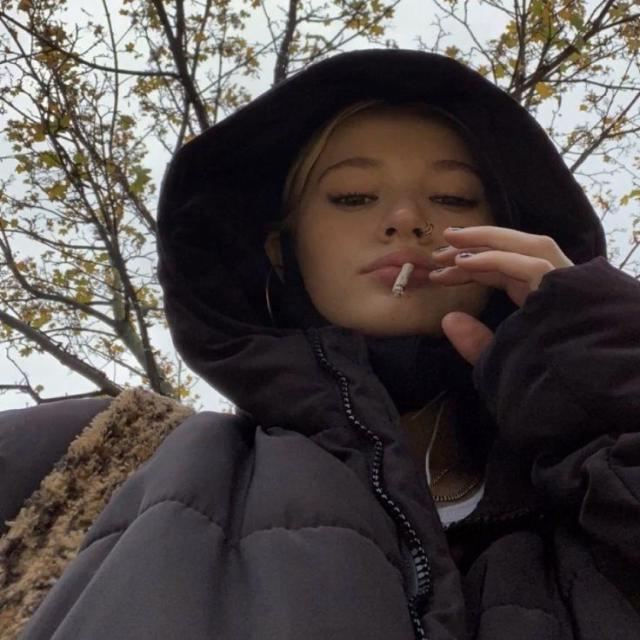cigarette: (391, 244, 432, 298)
